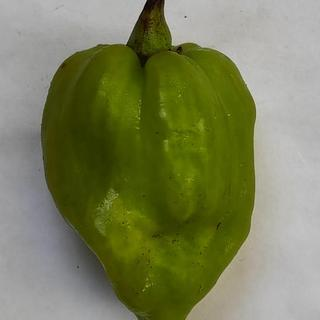Grade-A: (31, 36, 261, 316)
